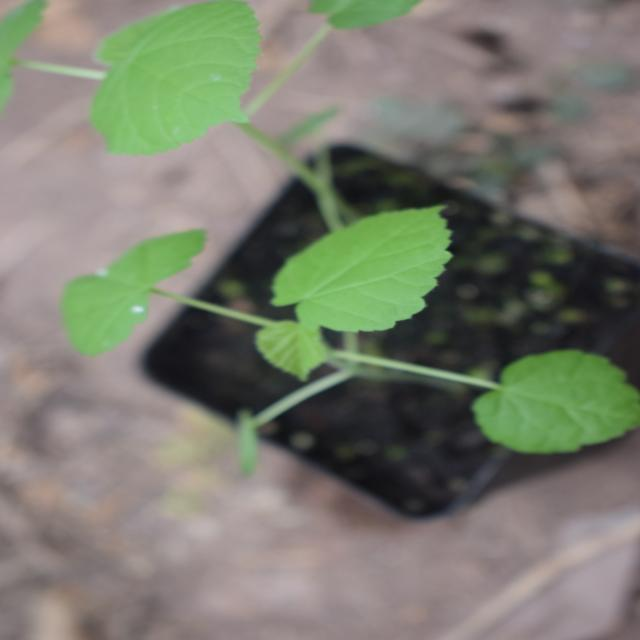abutilon theophrasti: (152, 42, 426, 623)
